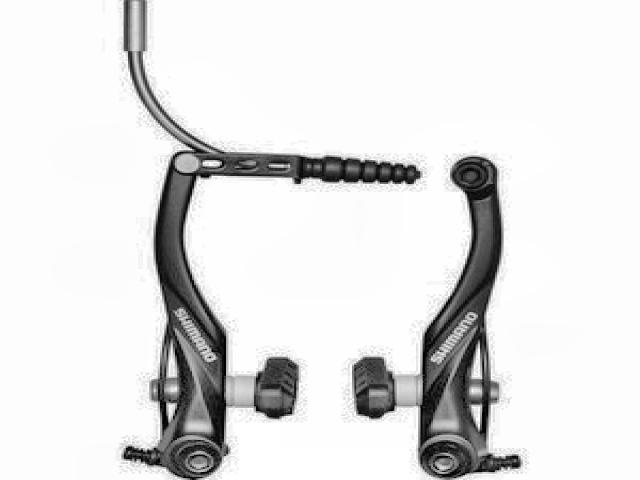rim_brake: (150, 140, 525, 480)
